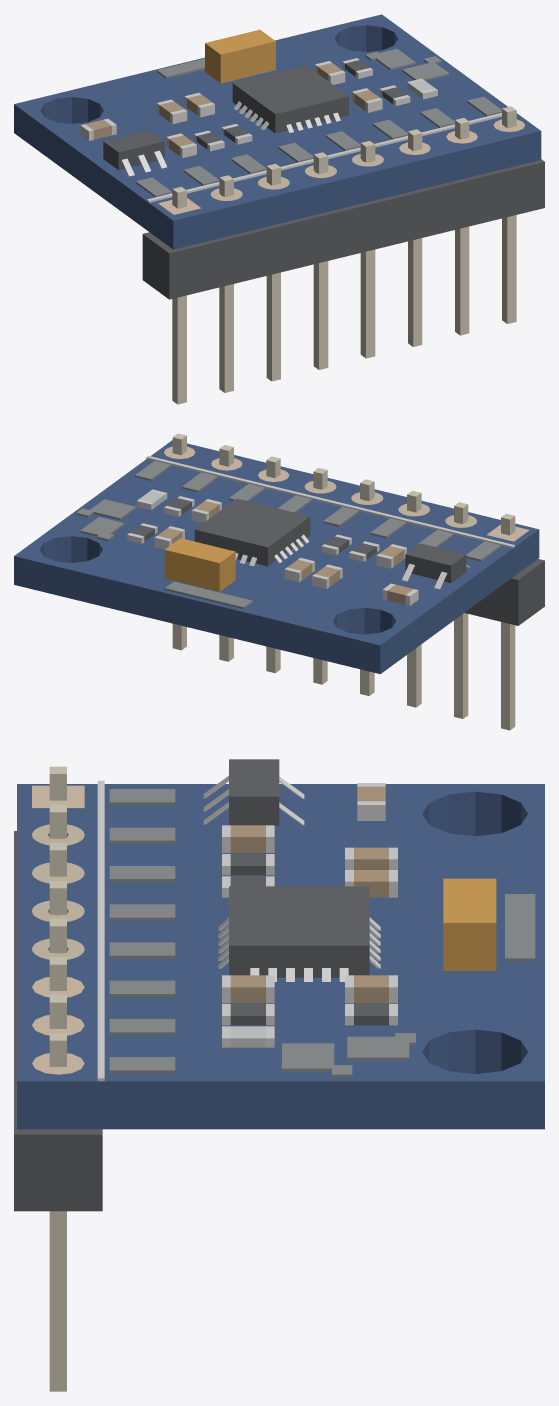
The model's file is IMU.glb.
3 views of the same model, one above another, from view 1: azimuth 30°, elevation 25°; view 2: azimuth 150°, elevation 25°; view 3: azimuth 270°, elevation 25° (orthographic). The views are drawn at different scales.
Visible parts, largest first — view 1: Mesh_Mesh_head_geo.001_lambert2SG.001; view 2: Mesh_Mesh_head_geo.001_lambert2SG.001; view 3: Mesh_Mesh_head_geo.001_lambert2SG.001.
Boxes of the visible parts, <box> form: Mesh_Mesh_head_geo.001_lambert2SG.001: <box>14,14,544,404</box>; Mesh_Mesh_head_geo.001_lambert2SG.001: <box>14,433,544,730</box>; Mesh_Mesh_head_geo.001_lambert2SG.001: <box>14,759,544,1391</box>.
Bounding box in the file's own units: 20.42 × 11.6 × 15.09.
